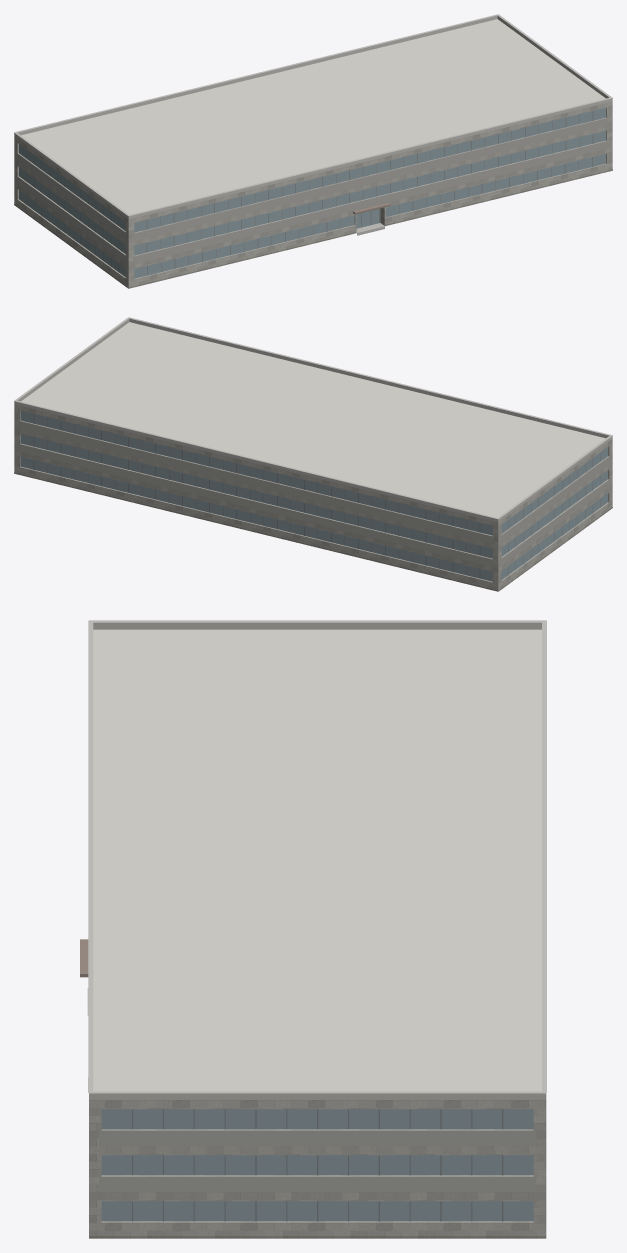
3 renders of one model, top to bottom at view 1: azimuth 30°, elevation 25°; view 2: azimuth 150°, elevation 25°; view 3: azimuth 270°, elevation 25°, orthographic. The views are drawn at different scales.
Parts seen in each view (by area): view 1: osm631011021__roof, osm631011021__glass, osm631011021__wall, osm631011021__wall2, osm631011021__parapet, osm631011021__trim, osm631011021__frame, osm631011021__base; view 2: osm631011021__roof, osm631011021__glass, osm631011021__wall, osm631011021__wall2, osm631011021__parapet, osm631011021__trim, osm631011021__frame, osm631011021__base; view 3: osm631011021__roof, osm631011021__glass, osm631011021__wall, osm631011021__wall2, osm631011021__trim, osm631011021__parapet, osm631011021__frame, osm631011021__base.
Part boxes in pixels (x1=…): osm631011021__roof: x1=21, y1=19, x2=605, y2=214; osm631011021__glass: x1=19, y1=108, x2=606, y2=278; osm631011021__wall: x1=14, y1=101, x2=612, y2=288; osm631011021__wall2: x1=17, y1=118, x2=608, y2=264; osm631011021__parapet: x1=14, y1=15, x2=612, y2=219; osm631011021__trim: x1=14, y1=14, x2=612, y2=216; osm631011021__frame: x1=26, y1=111, x2=593, y2=275; osm631011021__base: x1=14, y1=169, x2=612, y2=288; osm631011021__roof: x1=21, y1=322, x2=605, y2=517; osm631011021__glass: x1=20, y1=411, x2=607, y2=581; osm631011021__wall: x1=14, y1=404, x2=612, y2=591; osm631011021__wall2: x1=18, y1=421, x2=609, y2=567; osm631011021__parapet: x1=14, y1=318, x2=612, y2=522; osm631011021__trim: x1=14, y1=317, x2=612, y2=519; osm631011021__frame: x1=33, y1=414, x2=600, y2=578; osm631011021__base: x1=14, y1=472, x2=612, y2=591; osm631011021__roof: x1=93, y1=629, x2=541, y2=1091; osm631011021__glass: x1=101, y1=1109, x2=533, y2=1221; osm631011021__wall: x1=89, y1=1100, x2=546, y2=1235; osm631011021__wall2: x1=99, y1=1130, x2=536, y2=1192; osm631011021__trim: x1=88, y1=620, x2=546, y2=1094; osm631011021__parapet: x1=89, y1=622, x2=546, y2=1099; osm631011021__frame: x1=132, y1=1109, x2=503, y2=1221; osm631011021__base: x1=89, y1=1236, x2=546, y2=1238.
Bounding box in the file's own units: 79.29 × 11.75 × 33.09.
11 materials, 2 textured.
